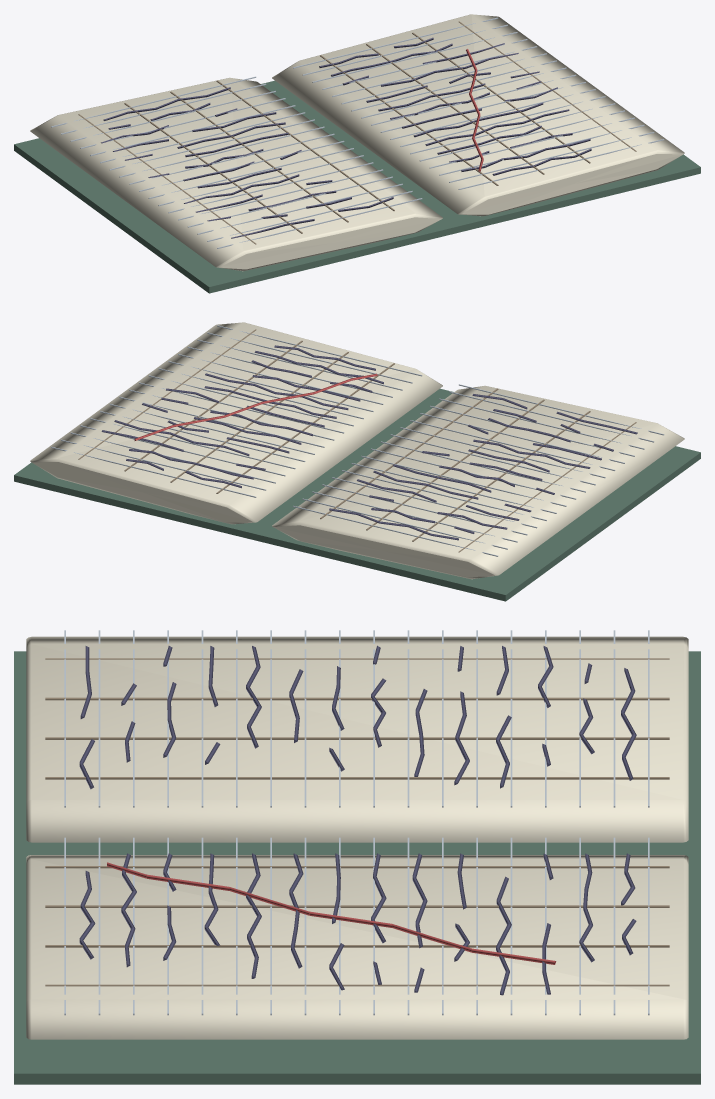
File: storm_logbook_a_open.glb
The picture shows the model from 3 angles, top to bottom: view 1: azimuth 30°, elevation 25°; view 2: azimuth 150°, elevation 25°; view 3: azimuth 270°, elevation 25°; orthographic projection. The views are drawn at different scales.
Parts seen in each view (by area): view 1: body; view 2: body; view 3: body.
Part boxes in pixels (box(x1,y1,x2,y2)): body: box(14, 14, 700, 293); body: box(14, 322, 700, 601); body: box(14, 630, 700, 1084).
Bounding box in the file's own units: 0.48 × 0.0296 × 0.33.
